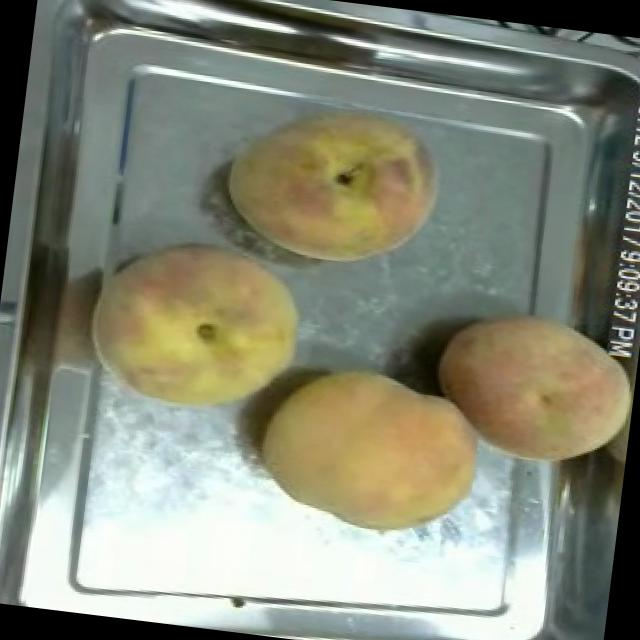Fruit: (76, 222, 322, 432), (245, 350, 495, 552), (211, 84, 456, 282), (418, 292, 640, 482)
